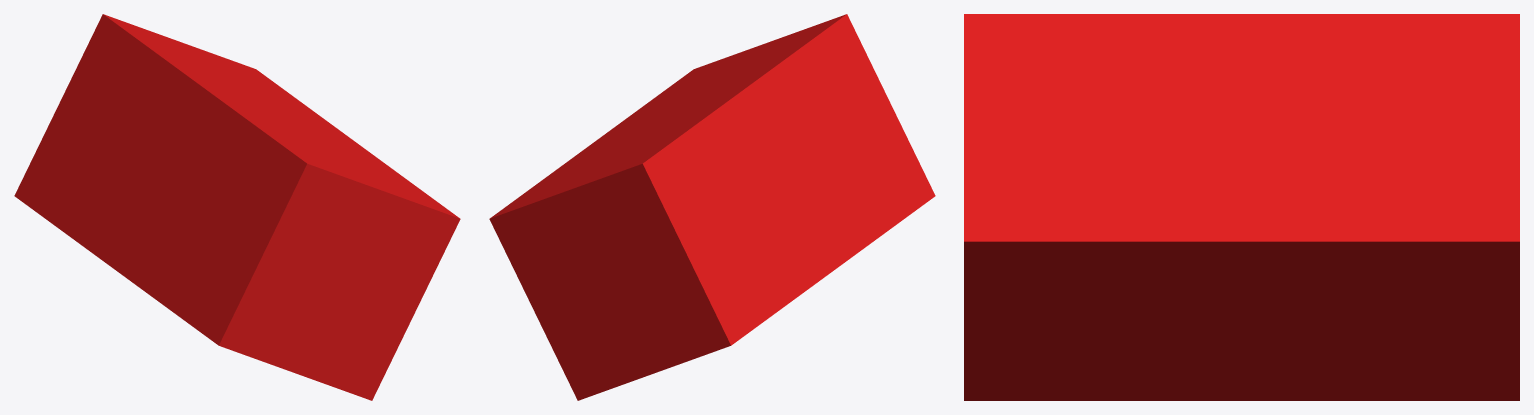
File: cube70_bin.fbx
3 views of the same model, side by side, from view 1: azimuth 30°, elevation 25°; view 2: azimuth 150°, elevation 25°; view 3: azimuth 270°, elevation 25° (orthographic). The views are drawn at different scales.
Visible parts, largest first — view 1: Cube; view 2: Cube; view 3: Cube.
Boxes of the visible parts, x1,y1,x2,y2 form: Cube: (14,14,460,400); Cube: (489,14,935,400); Cube: (964,14,1519,400).
Bounding box in the file's own units: 2.73 × 4 × 2.73.
1 material, 1 textured.
